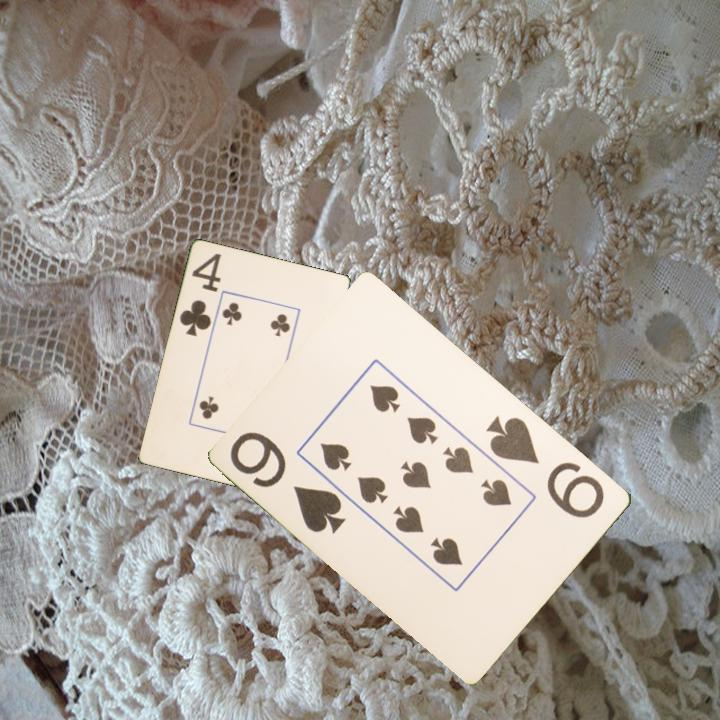4c: (176, 250, 224, 340)
9s: (483, 411, 608, 522), (226, 427, 350, 537)
